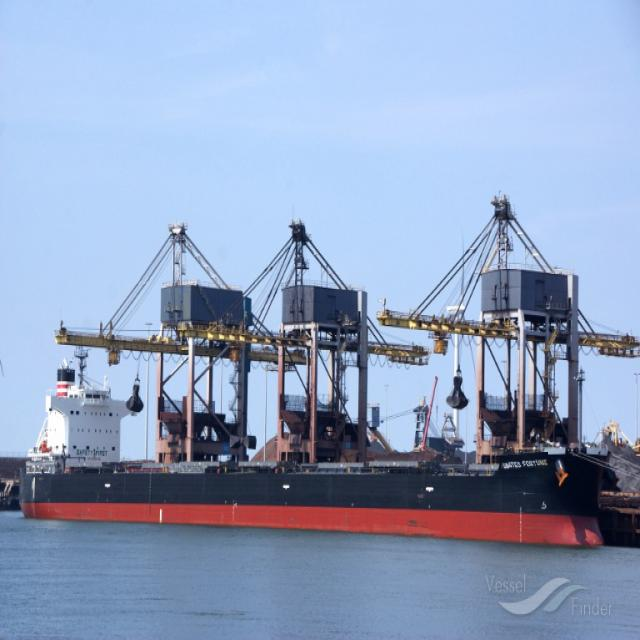OCR: (500, 452, 548, 476)
